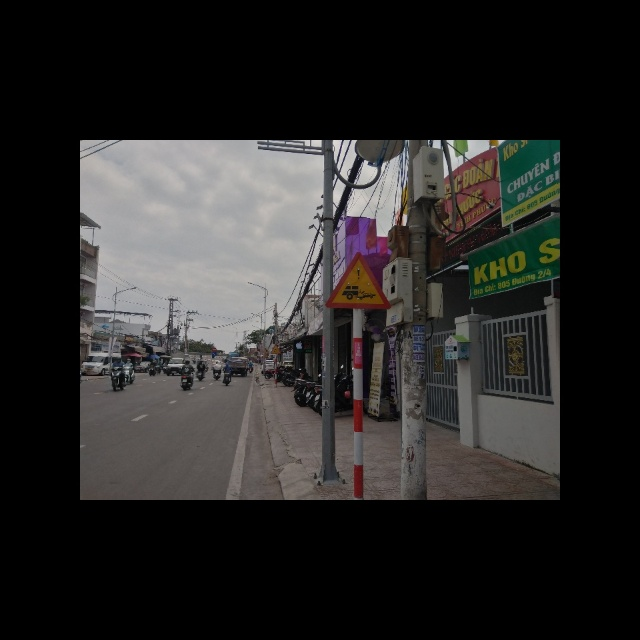Đoạn đường hay xảy ra tai nạn: (327, 250, 395, 310)
